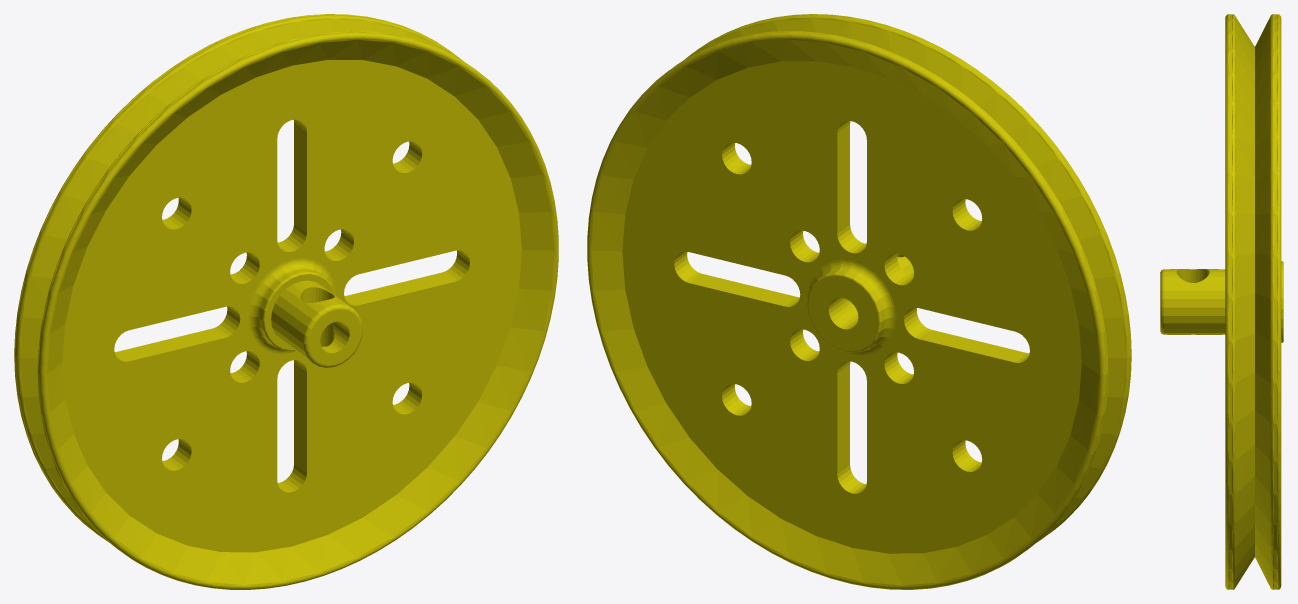
File: RongRoc(L).glb
The picture shows the model from 3 angles, left to right: view 1: azimuth 30°, elevation 25°; view 2: azimuth 150°, elevation 25°; view 3: azimuth 270°, elevation 25°; orthographic projection. The views are drawn at different scales.
Parts seen in each view (by area): view 1: defaultobject.001; view 2: defaultobject.001; view 3: defaultobject.001.
Part boxes in pixels (box(x1,y1,x2,y2)): defaultobject.001: box(14, 14, 558, 589); defaultobject.001: box(587, 14, 1131, 589); defaultobject.001: box(1160, 14, 1283, 589).
Size of the model in its own units: 218 by 218 by 46.66.
